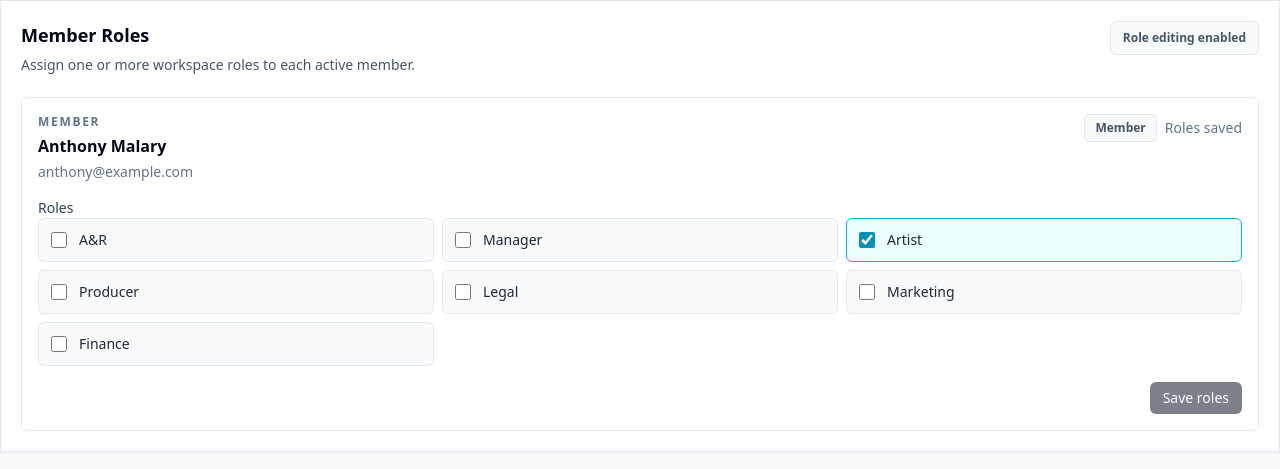
Test: MemberRoleAssignmentPanel › restores previous role selections when saving fails
The width and height of the screenshot is (1280, 469).
Click the checkbox named "Anthony Malary role Producer".
click(59, 292)  # box [51,284,67,300]
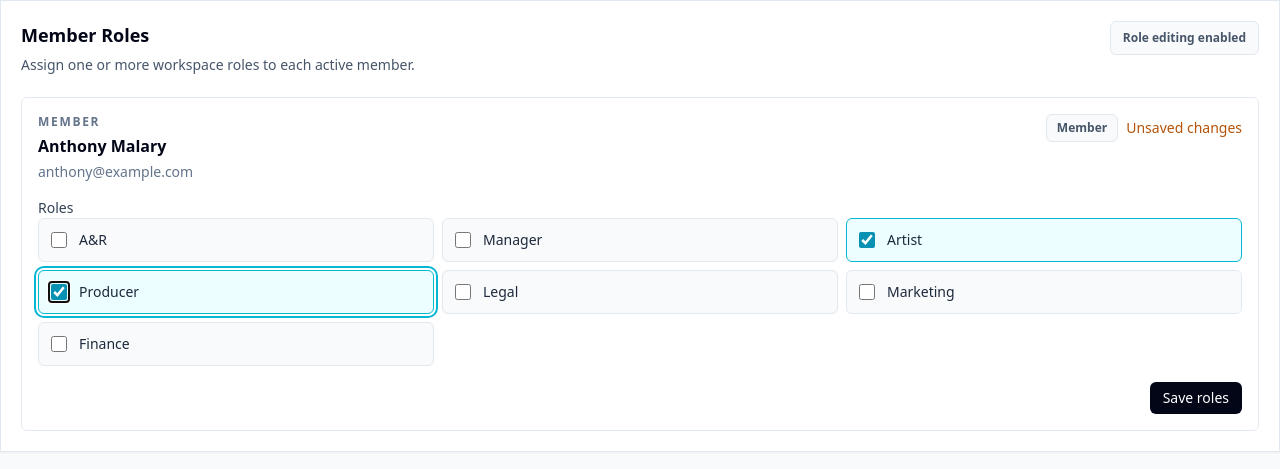
Result: the checkbox named "Anthony Malary role Producer" is checked at [51,284,67,300]
Click the button "Save roles".
click(1196, 398)  # box [1150,382,1242,414]
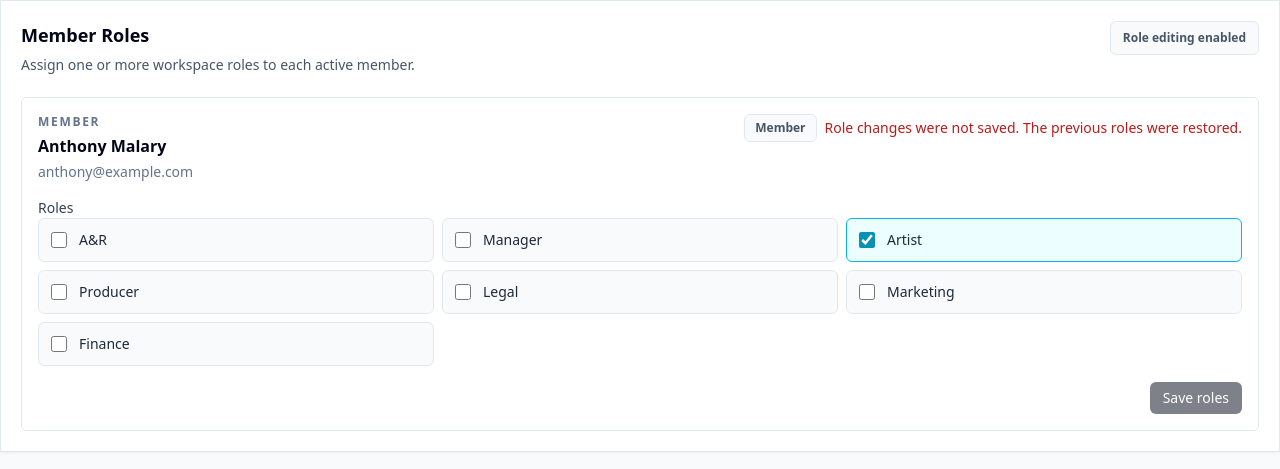
Expected: the checkbox named "Anthony Malary role Artist" is checked, [859,232,875,248]
Result: the checkbox named "Anthony Malary role Producer" is not checked at [51,284,67,300]
Result: the text "Role changes were not saved. The previous roles were restored." is shown at [825,118,1242,138]
